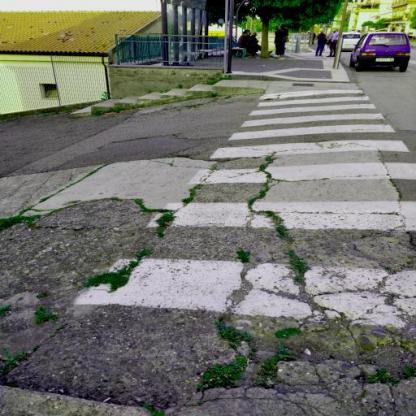crosswalk: (195, 124, 414, 162), (243, 92, 383, 118)
